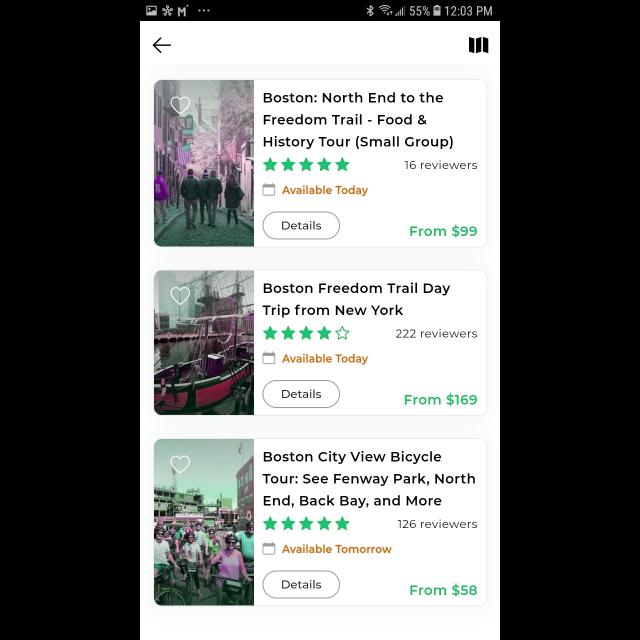icon: (262, 326, 350, 340), (262, 516, 350, 530), (262, 158, 350, 172), (172, 456, 190, 474), (172, 287, 190, 305), (172, 97, 190, 115), (152, 38, 172, 54), (469, 38, 488, 54), (262, 541, 276, 555), (262, 351, 276, 365), (262, 183, 276, 197)
image: (154, 439, 254, 605), (154, 81, 254, 247), (154, 270, 254, 416)
text: (263, 452, 475, 508), (264, 92, 452, 150), (262, 282, 450, 318), (283, 544, 392, 554), (282, 186, 368, 197), (410, 225, 478, 238), (405, 394, 477, 406), (282, 354, 368, 364), (410, 584, 478, 596), (396, 329, 476, 338), (398, 520, 478, 528), (405, 162, 477, 170)
textbutton: (263, 571, 341, 599), (263, 380, 341, 408), (263, 212, 341, 240)
uppertaskbar: (140, 1, 500, 22)
